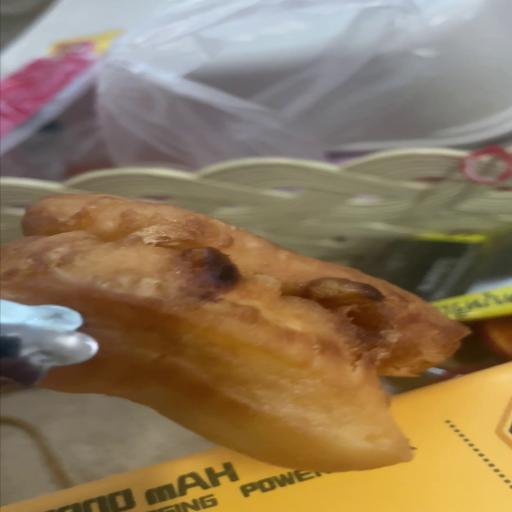street_burnt_defect: (0, 194, 466, 472)
